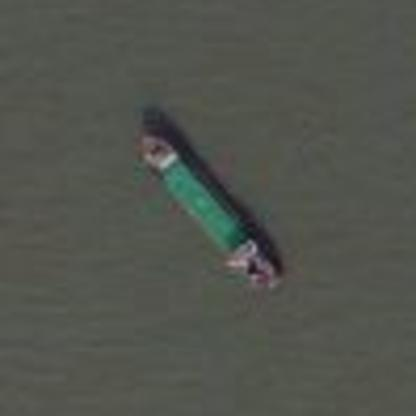ship: (129, 126, 289, 296)
